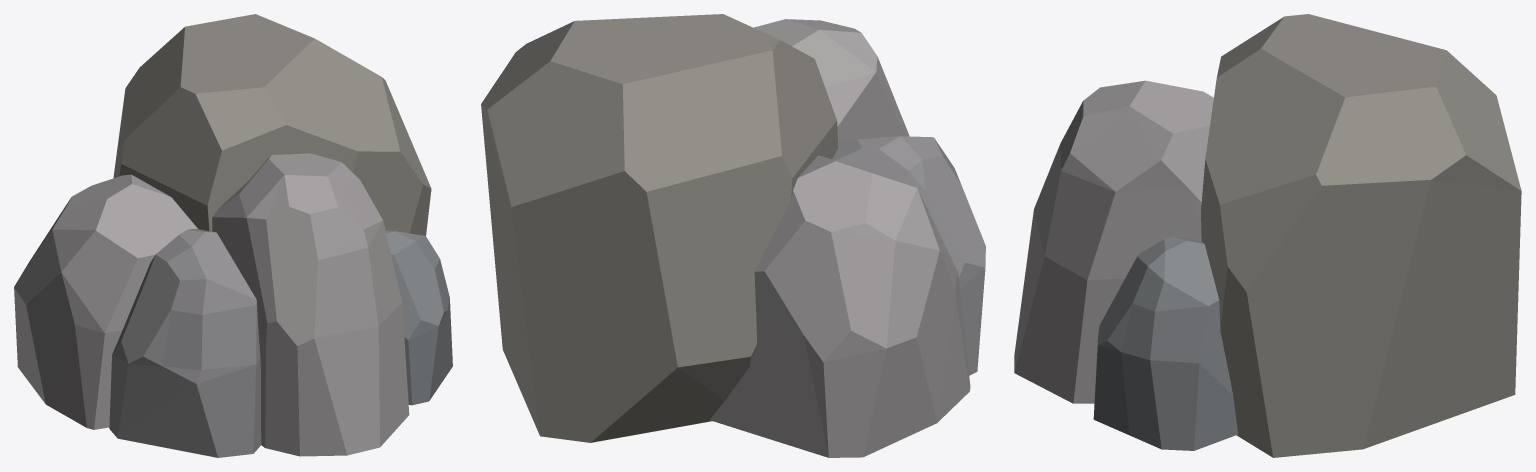
The model's file is Rocks_Round_l_02 2.fbx.
3 views of the same model, side by side, from view 1: azimuth 30°, elevation 25°; view 2: azimuth 150°, elevation 25°; view 3: azimuth 270°, elevation 25° (orthographic). The views are drawn at different scales.
Parts seen in each view (by area): view 1: Rocks_Round_l_02; view 2: Rocks_Round_l_02; view 3: Rocks_Round_l_02.
Part boxes in pixels (x1,y1,x2,y2): Rocks_Round_l_02: (14,14,452,457); Rocks_Round_l_02: (481,14,985,457); Rocks_Round_l_02: (1014,14,1521,457).
Bounding box in the file's own units: 306 × 230 × 327.
